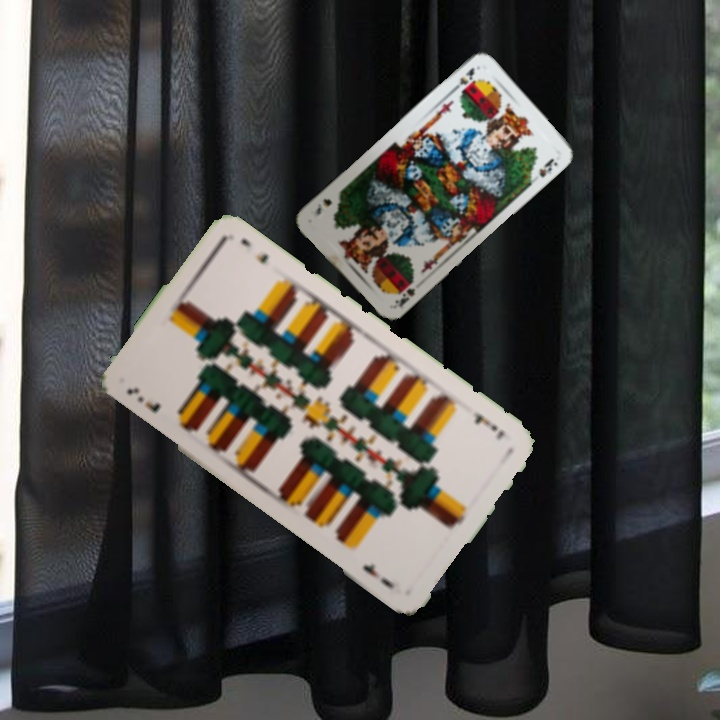E7: (468, 407, 508, 443), (122, 383, 164, 415)
SK: (447, 63, 477, 96), (391, 275, 418, 311)
